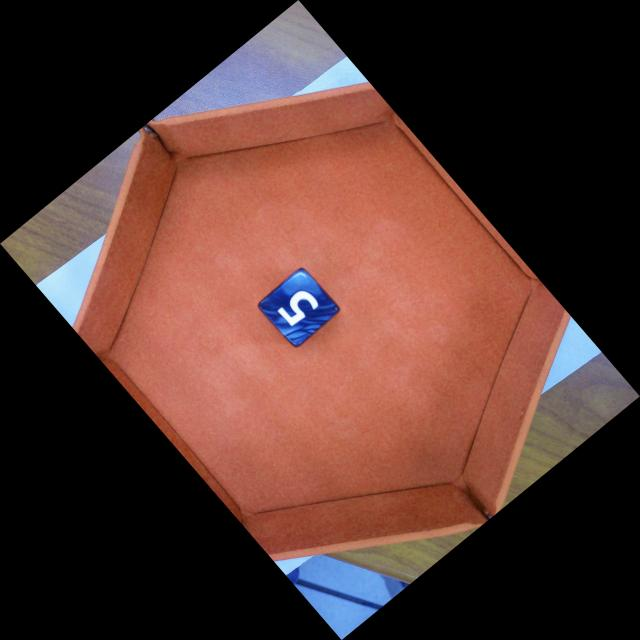dice: (256, 266, 342, 349)
